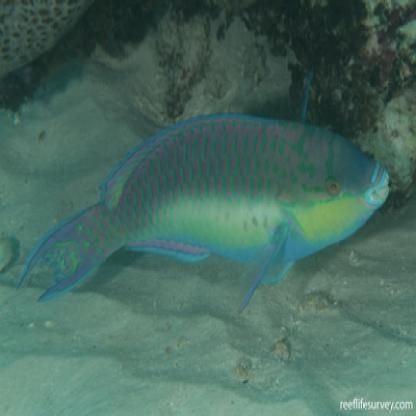Bio: (12, 72, 392, 318)
